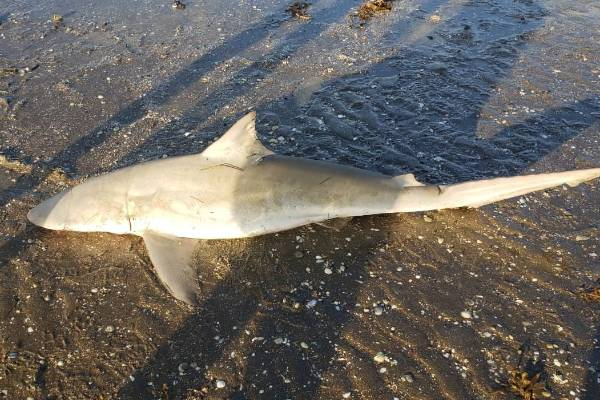shark: (25, 108, 600, 299)
